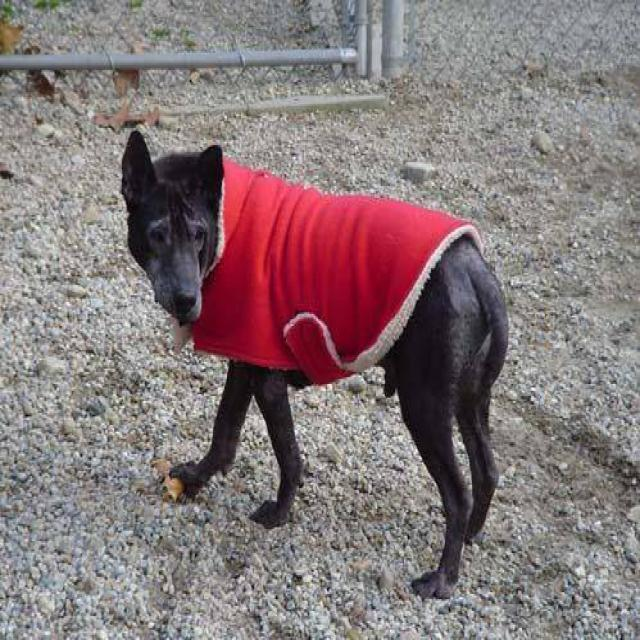Dog: (114, 126, 226, 326)
